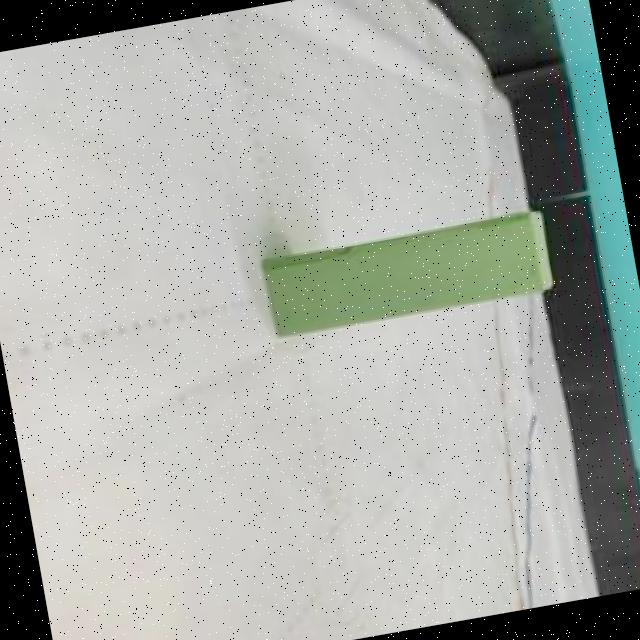greenbox: (262, 208, 556, 342)
